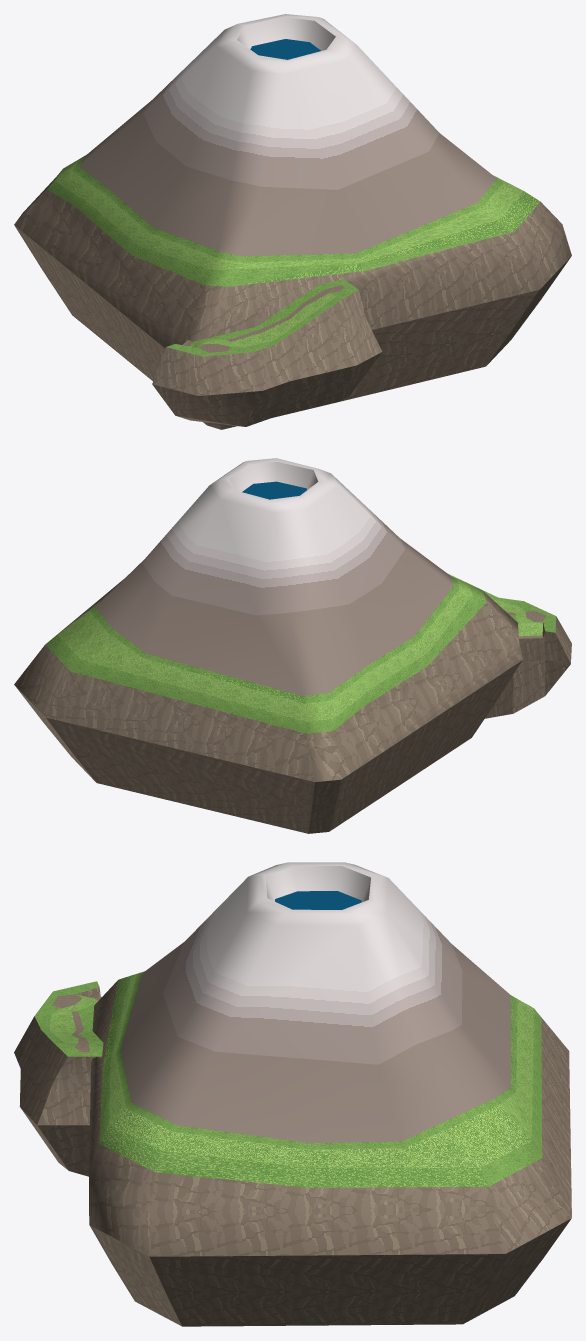
File: 0276_Whale_Mountain.glb
The picture shows the model from 3 angles, top to bottom: view 1: azimuth 30°, elevation 25°; view 2: azimuth 150°, elevation 25°; view 3: azimuth 270°, elevation 25°; orthographic projection. The views are drawn at different scales.
Visible parts, largest first — view 1: part_0; view 2: part_0; view 3: part_0.
Part boxes in pixels (x1,y1,x2,y2): part_0: (14, 14, 571, 429); part_0: (14, 458, 571, 833); part_0: (14, 862, 571, 1326).
Bounding box in the file's own units: 373 × 296 × 351.
1 material, 1 textured.
